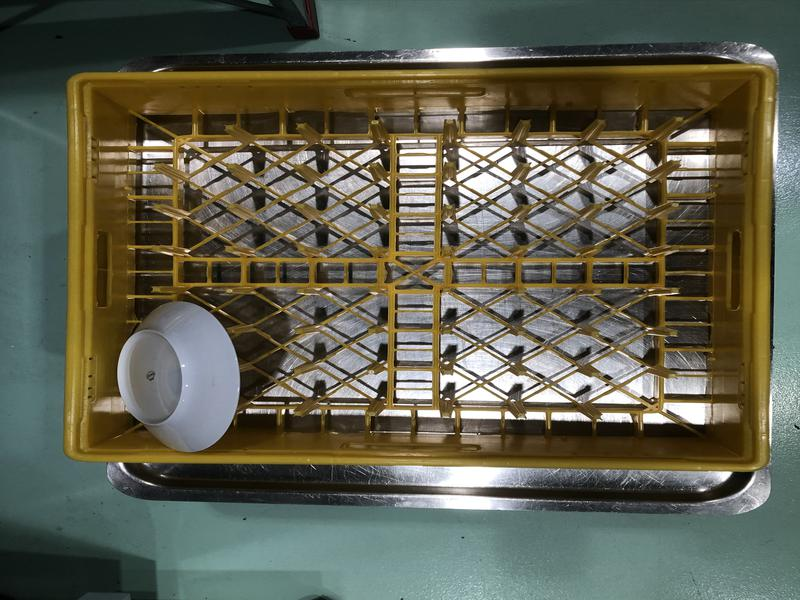Inclined_dish: (117, 301, 237, 454)
